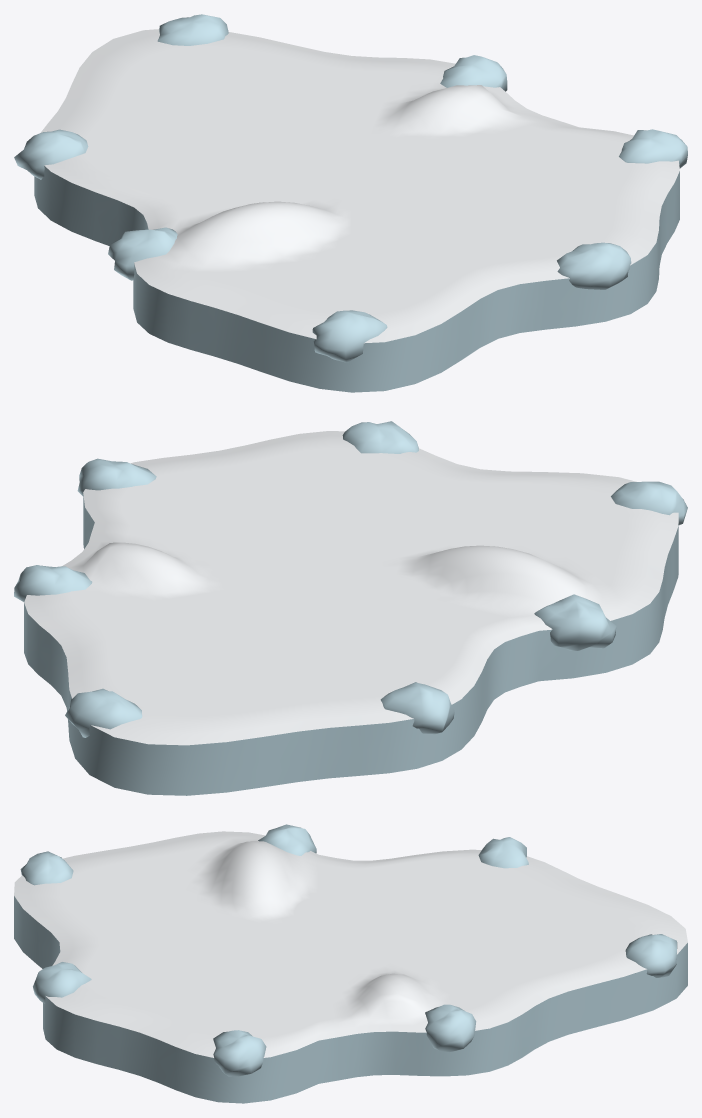
The model's file is ocean-giants-kit-ice-floe-23f8092e__39362.glb.
3 views of the same model, one above another, from view 1: azimuth 30°, elevation 25°; view 2: azimuth 150°, elevation 25°; view 3: azimuth 270°, elevation 25° (orthographic). The views are drawn at different scales.
Parts seen in each view (by area): view 1: ice-floe; view 2: ice-floe; view 3: ice-floe.
Boxes of the visible parts, x1,y1,x2,y2 form: ice-floe: (14,14,687,392); ice-floe: (14,421,687,795); ice-floe: (14,824,687,1103).
Bounding box in the file's own units: 4.43 × 0.6386 × 5.36.
